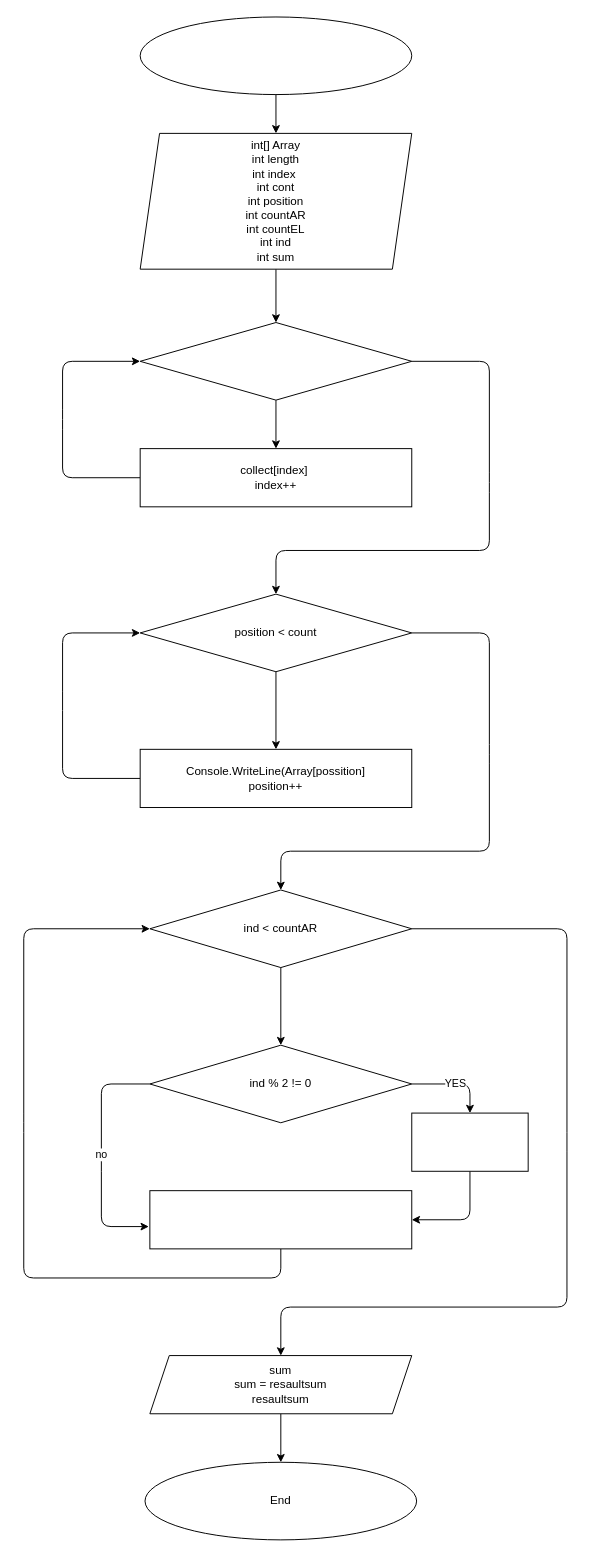
Image size: 592x1557. Some labels were removed from this diagram. The shapes that lost their labels are listed below. From the top down, each one's centre as x and y in pixels, then its label:
(275,55): Start
(275,361): index < length
(469,1141): sum += array[ind]
(280,1219): ind++
